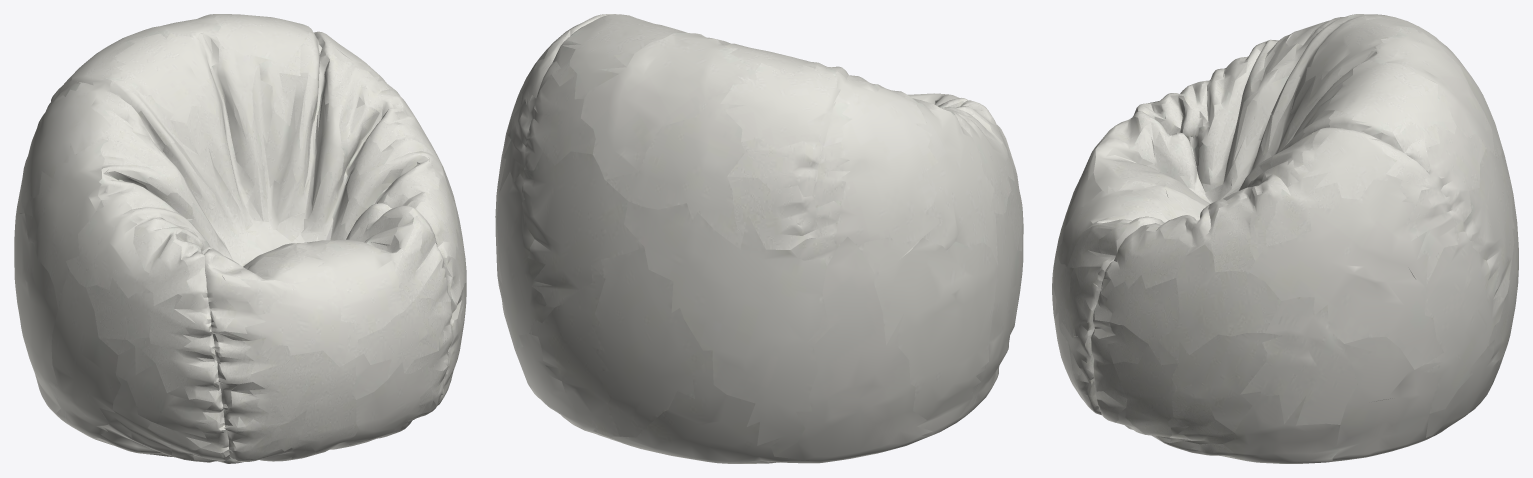
Rendered from beanbag.glb.
The picture shows the model from 3 angles, left to right: view 1: azimuth 30°, elevation 25°; view 2: azimuth 150°, elevation 25°; view 3: azimuth 270°, elevation 25°; orthographic projection. The views are drawn at different scales.
Parts seen in each view (by area): view 1: 0; view 2: 0; view 3: 0.
Boxes of the visible parts, left/top/right/bottom form: 0: left=14, top=14, right=466, bottom=463; 0: left=495, top=14, right=1023, bottom=463; 0: left=1052, top=14, right=1518, bottom=463.
Bounding box in the file's own units: 0.9 × 0.7 × 0.9.
Materials: 1 (1 with a texture image).
